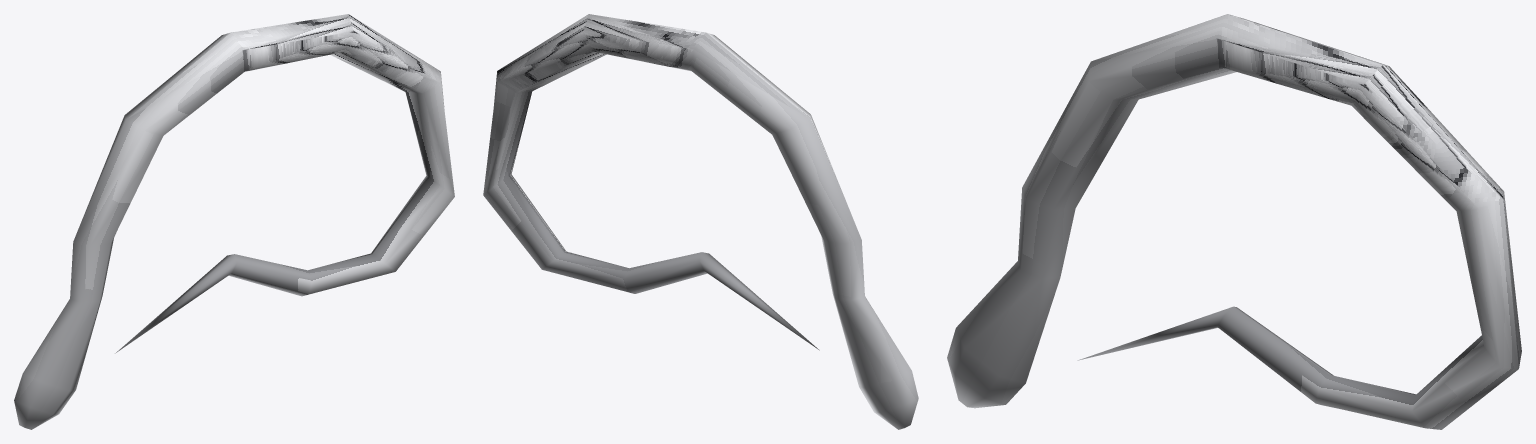
Rendered from snake_000009.obj.
3 renders of one model, left to right at view 1: azimuth 30°, elevation 25°; view 2: azimuth 150°, elevation 25°; view 3: azimuth 330°, elevation 25°, orthographic. The views are drawn at different scales.
Parts seen in each view (by area): view 1: Cylinder; view 2: Cylinder; view 3: Cylinder.
Part boxes in pixels (x1=…): Cylinder: x1=14, y1=14, x2=454, y2=429; Cylinder: x1=483, y1=14, x2=918, y2=429; Cylinder: x1=947, y1=14, x2=1521, y2=429.
Size of the model in its own units: 4.5 by 3.44 by 0.3671.
